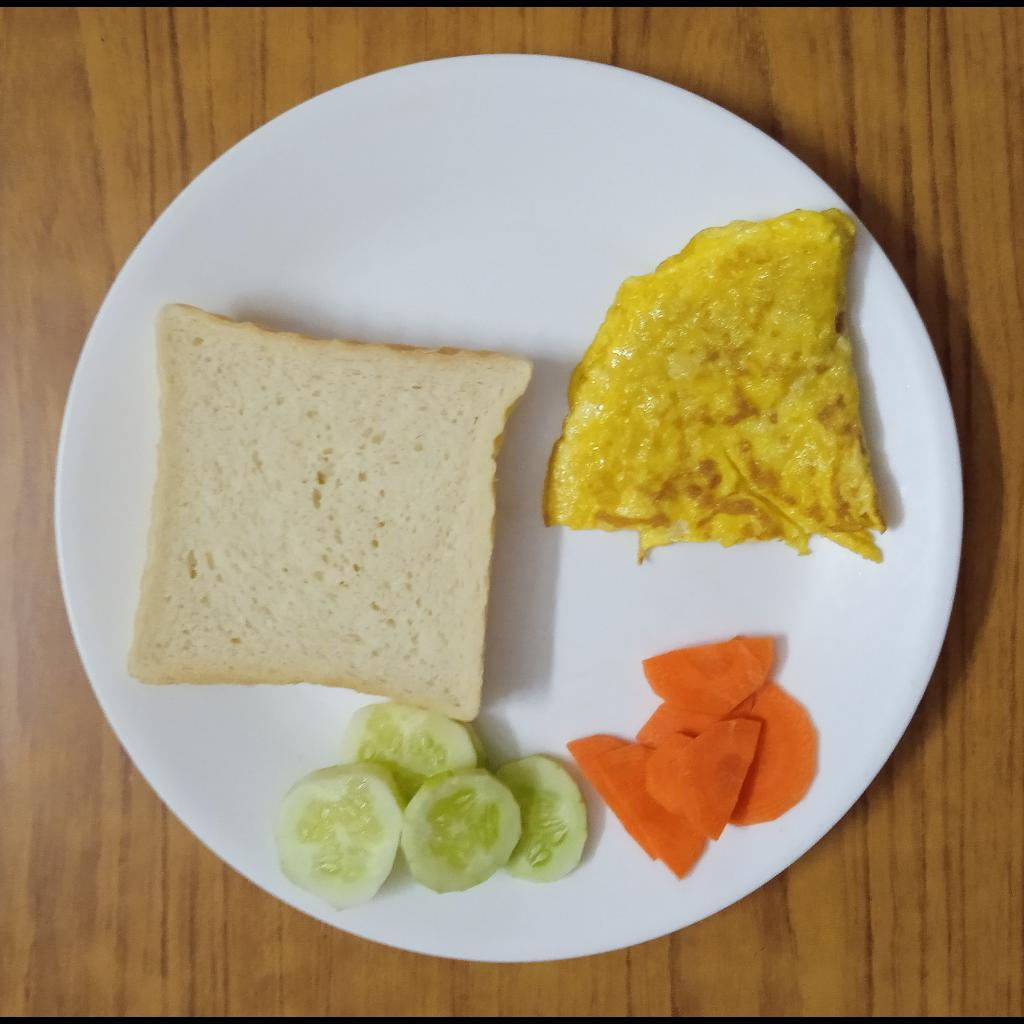bread: (128, 303, 531, 725)
carrot: (569, 634, 825, 882)
cucumber: (275, 707, 593, 905)
egg: (542, 206, 894, 570)
